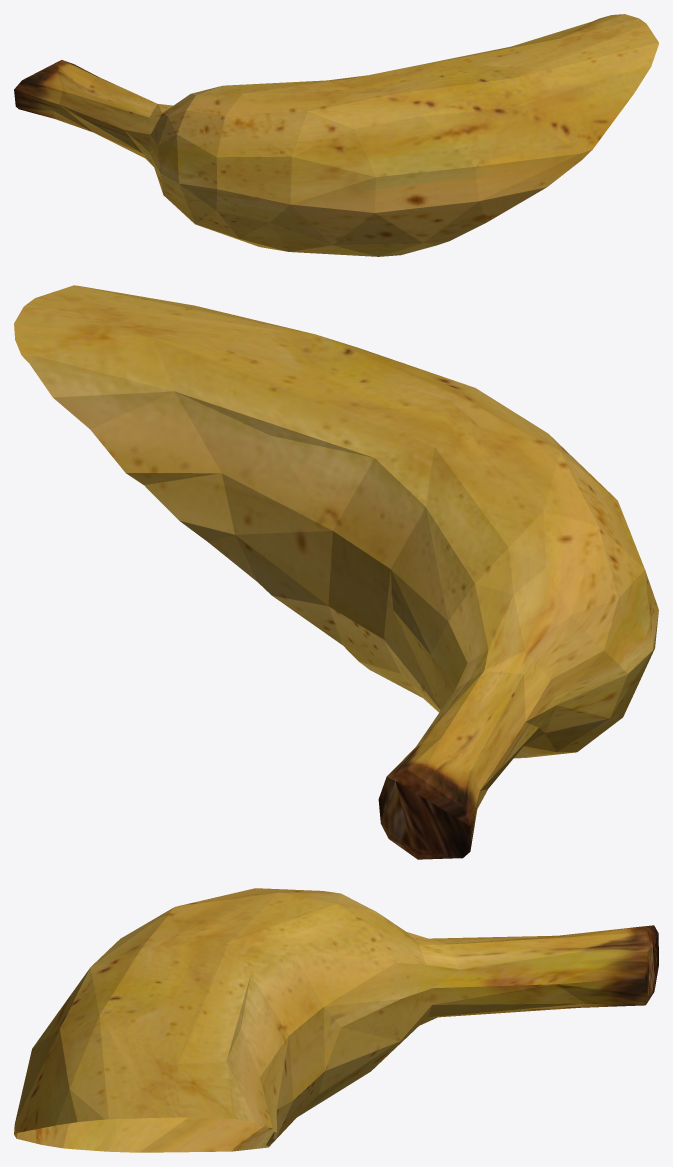
File: banaanBovenkant.obj
3 views of the same model, one above another, from view 1: azimuth 30°, elevation 25°; view 2: azimuth 150°, elevation 25°; view 3: azimuth 270°, elevation 25° (orthographic). The views are drawn at different scales.
Visible parts, largest first — view 1: Banana.002; view 2: Banana.002; view 3: Banana.002.
Part boxes in pixels (x1,y1,x2,y2): Banana.002: (14, 14, 658, 256); Banana.002: (14, 285, 658, 859); Banana.002: (14, 888, 658, 1152).
Bounding box in the file's own units: 1.48 × 0.4988 × 1.32.
1 material, 1 textured.
